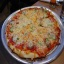pizza: (6, 8, 58, 59)
